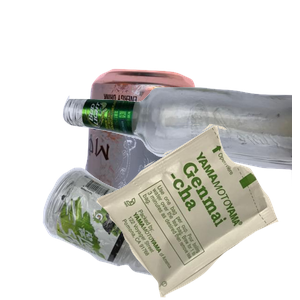glass: (60, 84, 300, 260)
metal: (82, 66, 270, 246)
plastic: (40, 165, 235, 300)
trash: (91, 124, 300, 300)
